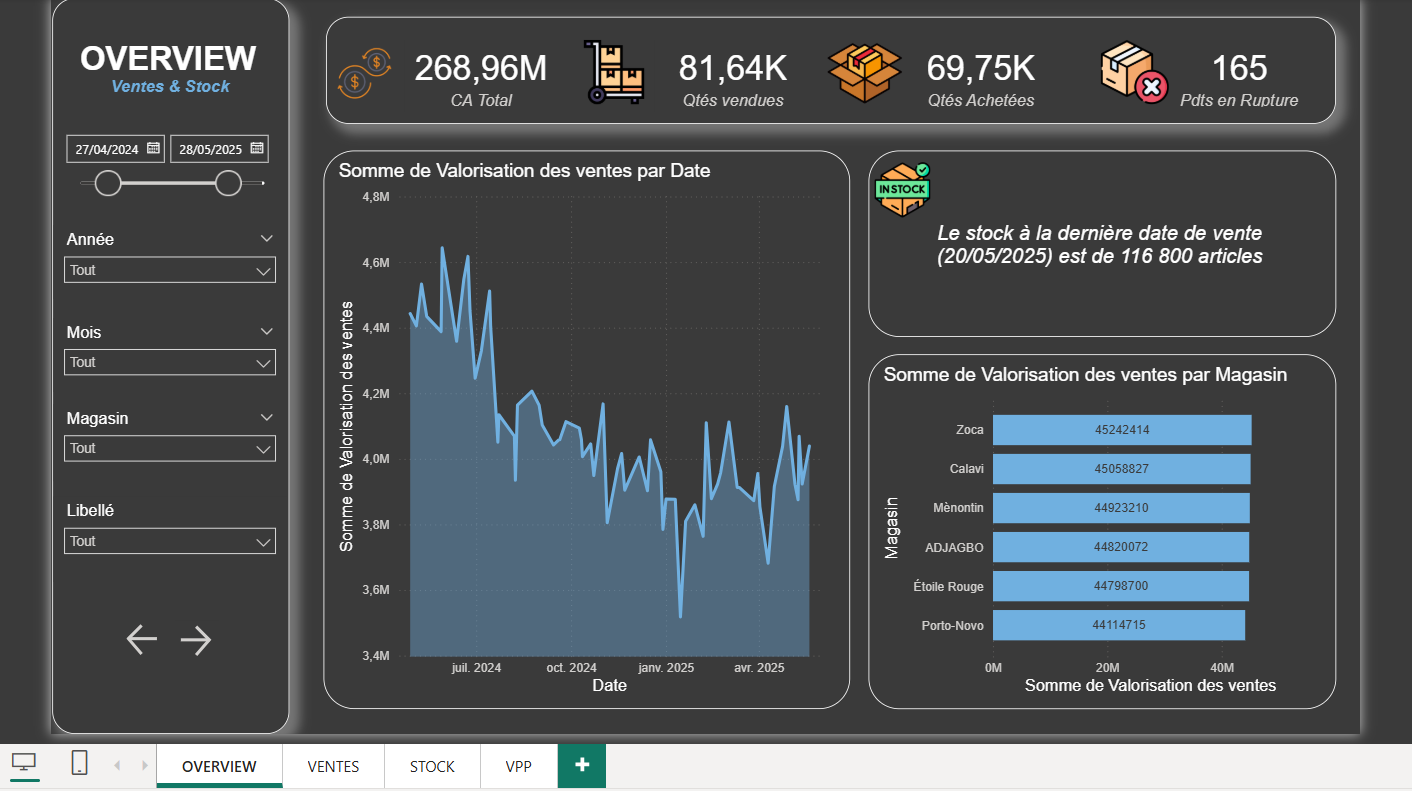

This screenshot's page, from the dashboard's own definition file:
{"tool":"powerbi","page":{"name":"OVERVIEW","canvas":[1280,720],"ordinal":0},"visuals":[{"type":"group","id":"g1","title":"Groupe 2","box":[269,18.7,988.3,105],"z":0},{"type":"basicShape","box":[269,18.7,988.3,105],"z":0,"group":"g1"},{"type":"basicShape","box":[1.2,0,232.3,720],"z":500,"group":"g2"},{"type":"areaChart","fields":{"Category":["data.Date"],"Y":["Sum(data.Valorisation des ventes)"]},"box":[266.6,149.6,515.2,546.5],"z":1000},{"type":"image","box":[266.6,41,79.6,63.9],"z":2000},{"type":"clusteredBarChart","fields":{"Category":["data.Magasin"],"Y":["Sum(data.Valorisation des ventes)"]},"box":[799.9,348.7,457.2,347.5],"z":3000},{"type":"group","id":"g2","title":"Groupe 2","box":[1.2,0,232.3,720],"z":4000},{"type":"textbox","box":[16.9,36.2,194.2,74.8],"z":5000},{"type":"slicer","fields":{"Values":["data.Date"]},"box":[2.2,123.3,227.8,83.3],"z":6000},{"type":"slicer","fields":{"Values":["data.Magasin"]},"box":[2.2,397.8,227.8,75.6],"z":7000},{"type":"slicer","fields":{"Values":["data.Libellé"]},"box":[2.2,487.8,227.8,83.3],"z":8000},{"type":"slicer","fields":{"Values":["data.Année"]},"box":[2.2,222.2,227.8,72.2],"z":9000},{"type":"slicer","fields":{"Values":["data.Mois"]},"box":[2.2,313.3,227.8,72.2],"z":10000},{"type":"actionButton","box":[120.7,608.7,43.4,39.8],"z":11000},{"type":"actionButton","box":[70.2,608.1,39.9,39.9],"z":12000},{"type":"card","fields":{"Values":["Sum(data.Somme des sorties (ventes))"]},"box":[590.2,41,153.2,70],"z":13000},{"type":"card","fields":{"Values":["Sum(data.Somme des entrées (achats))"]},"box":[827.6,41,164.1,70],"z":14000},{"type":"card","fields":{"Values":["Sum(data.Valorisation des ventes)"]},"box":[346.2,41,149.6,70],"z":15000},{"type":"card","fields":{"Values":["Count(data.Référence produit)"]},"box":[1091.8,41,141.2,70],"z":16000},{"type":"image","box":[1021.9,32.6,76,79.6],"z":17000},{"type":"card","fields":{"Values":["data.TexteStockDerniereDate"]},"box":[799.8,149.6,457.5,182.7],"z":18000},{"type":"image","box":[754,27.7,83.2,91.7],"z":19000},{"type":"image","box":[801.1,154.4,63.9,67.6],"z":20000},{"type":"image","box":[512,26.7,77.1,90.7],"z":20004,"group":"g1"}]}

Visuals, with their boxes on the page's 1280x720 design canvas (x1, y1, x2, y2). These are canvas units, not pixel positions in the 1412x791 screenshot, which may show the page scaled, cropped or inside an application window:
"Groupe 2" group: locate(269, 19, 1257, 124)
basicShape: locate(269, 19, 1257, 124)
basicShape: locate(1, 0, 234, 720)
areaChart - data.Date x Sum(data.Valorisation des ventes): locate(267, 150, 782, 696)
image: locate(267, 41, 346, 105)
clusteredBarChart - data.Magasin x Sum(data.Valorisation des ventes): locate(800, 349, 1257, 696)
"Groupe 2" group: locate(1, 0, 234, 720)
textbox: locate(17, 36, 211, 111)
slicer - data.Date: locate(2, 123, 230, 207)
slicer - data.Magasin: locate(2, 398, 230, 473)
slicer - data.Libellé: locate(2, 488, 230, 571)
slicer - data.Année: locate(2, 222, 230, 294)
slicer - data.Mois: locate(2, 313, 230, 386)
actionButton: locate(121, 609, 164, 648)
actionButton: locate(70, 608, 110, 648)
card - Sum(data.Somme des sorties (ventes)): locate(590, 41, 743, 111)
card - Sum(data.Somme des entrées (achats)): locate(828, 41, 992, 111)
card - Sum(data.Valorisation des ventes): locate(346, 41, 496, 111)
card - Count(data.Référence produit): locate(1092, 41, 1233, 111)
image: locate(1022, 33, 1098, 112)
card - data.TexteStockDerniereDate: locate(800, 150, 1257, 332)
image: locate(754, 28, 837, 119)
image: locate(801, 154, 865, 222)
image: locate(512, 27, 589, 117)
